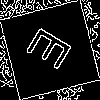E: (25, 25, 81, 77)
